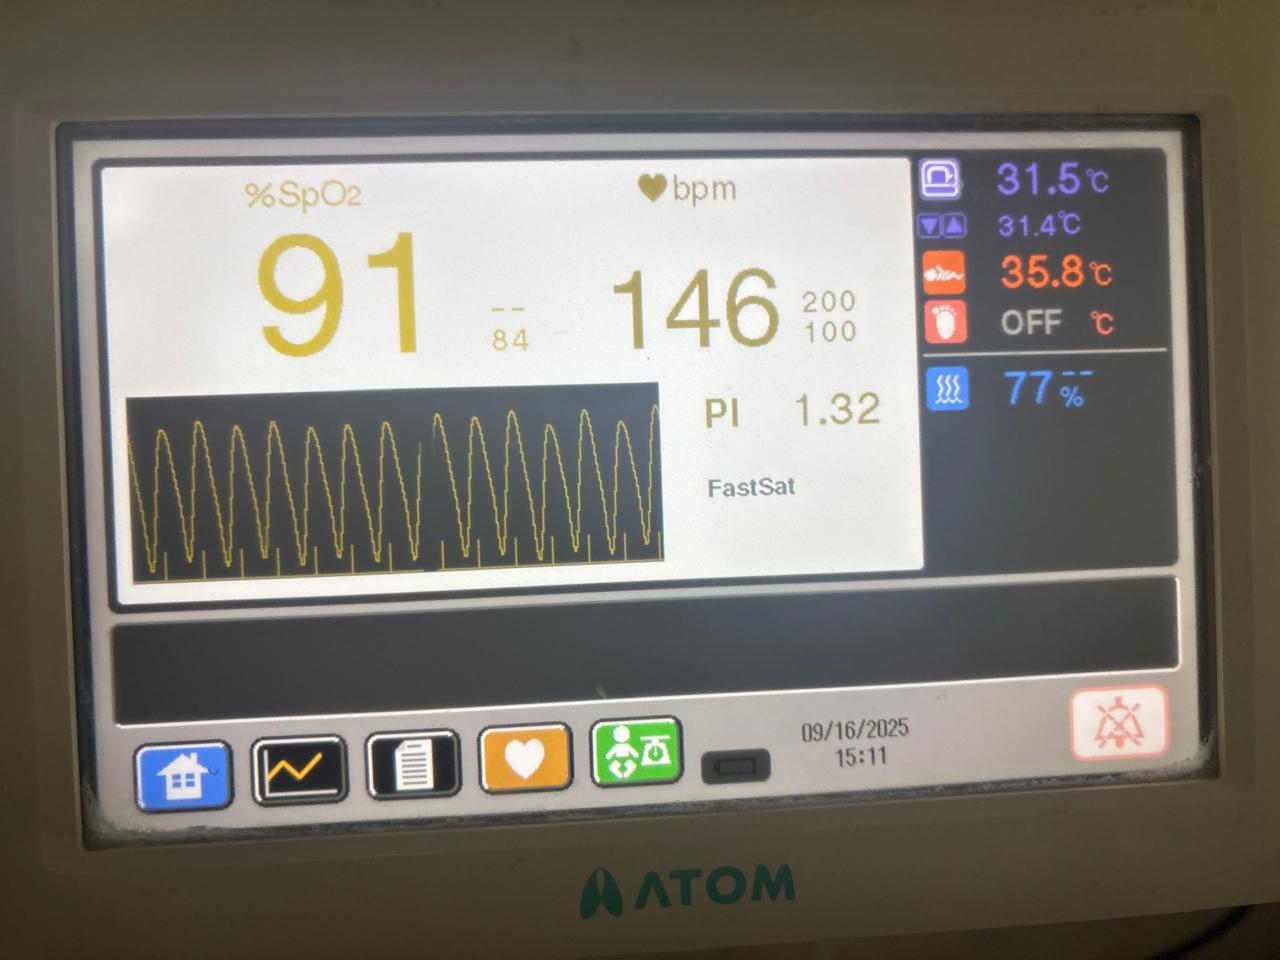heart_rate_value: (597, 250, 781, 371)
humidity_value: (990, 359, 1058, 419)
skin_temp_value: (983, 236, 1089, 300)
spo2_value: (248, 224, 445, 365)
